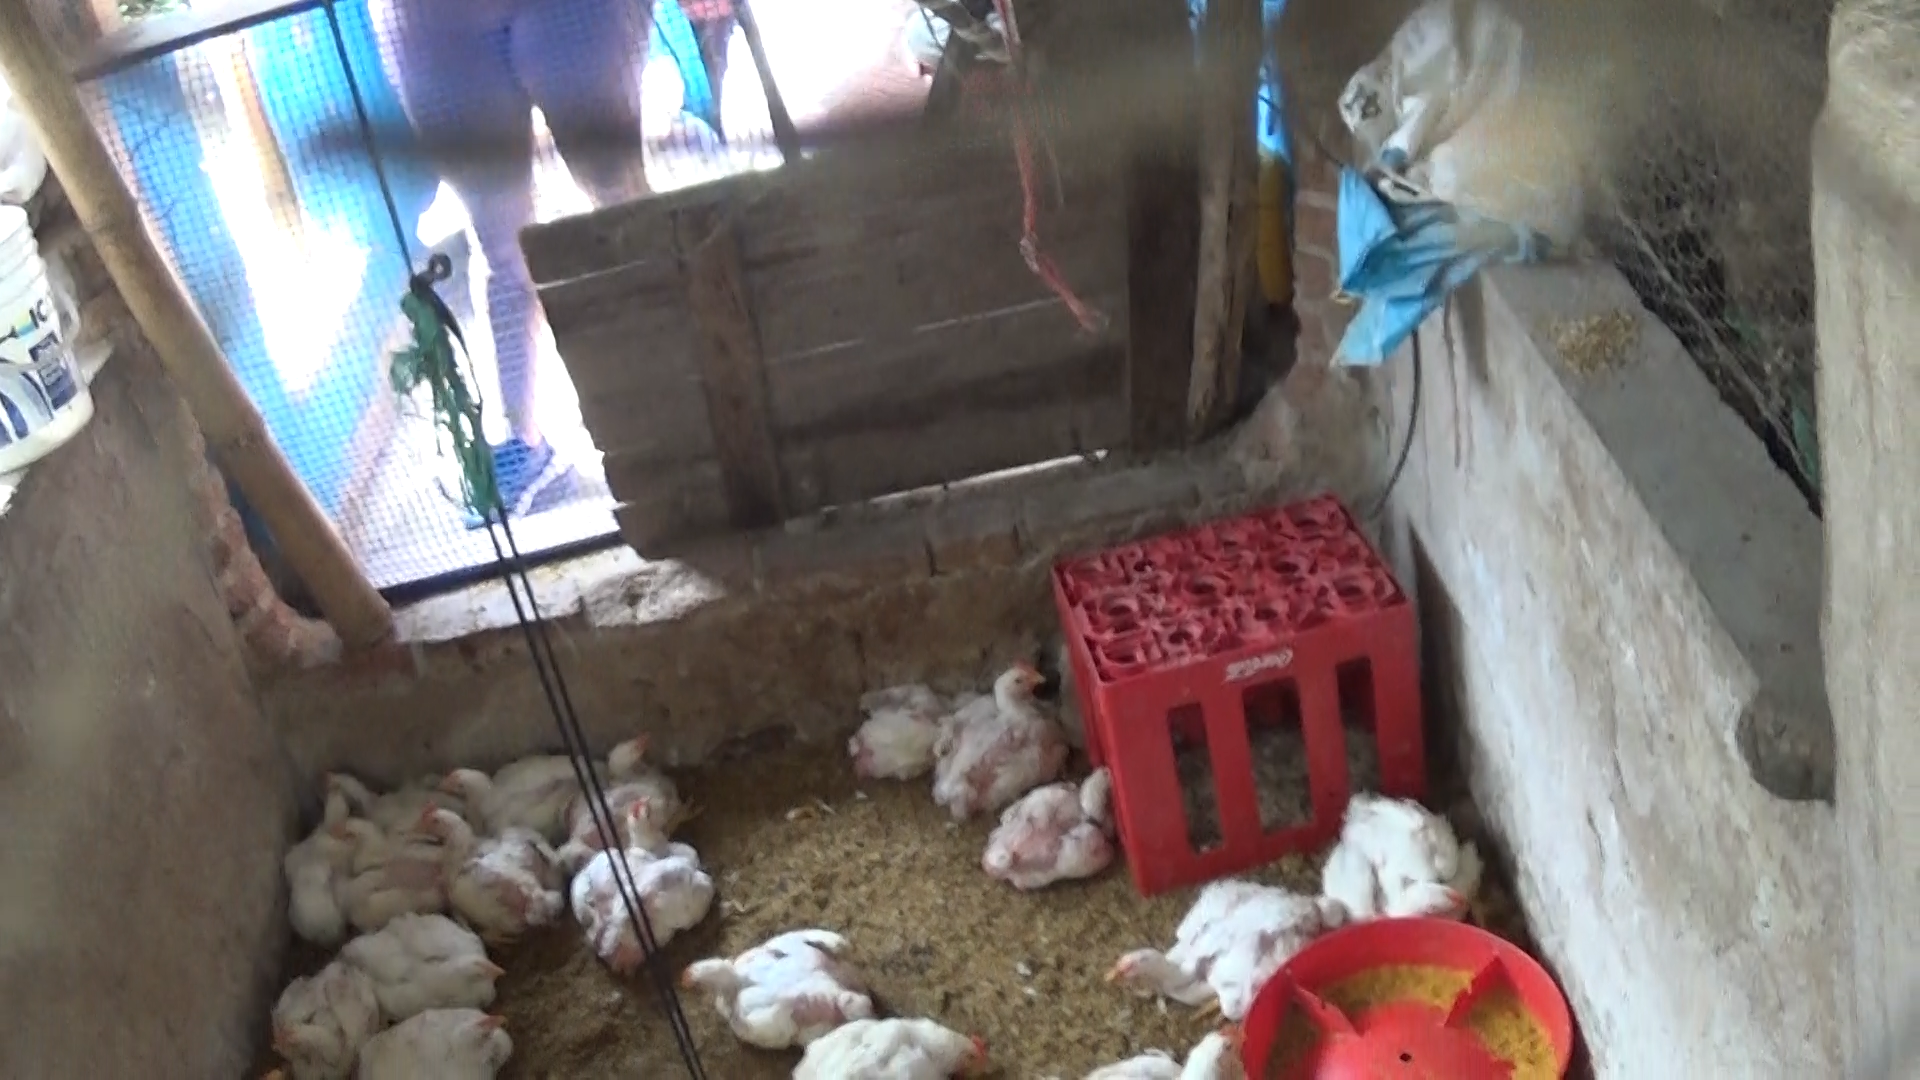Pollos: (1096, 877, 1331, 1013), (671, 920, 880, 1047), (564, 794, 713, 971), (1316, 782, 1490, 927), (920, 653, 1060, 823), (975, 764, 1126, 893), (410, 800, 564, 927), (342, 913, 512, 1007), (779, 1011, 1000, 1080), (582, 729, 707, 843), (353, 1002, 529, 1080), (265, 959, 380, 1077), (433, 758, 607, 831), (330, 816, 452, 913), (285, 785, 347, 949), (855, 687, 953, 781), (327, 764, 452, 829)
